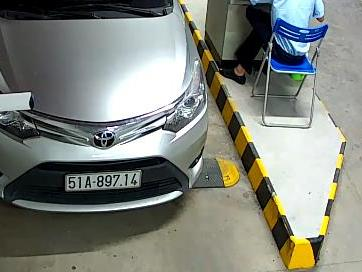number: (64, 171, 140, 191)
